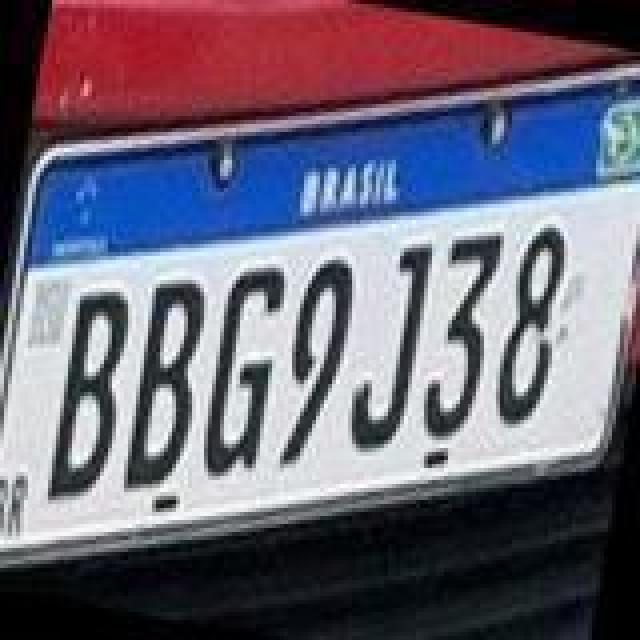3: (412, 220, 508, 452)
8: (486, 216, 578, 440)
9: (268, 246, 364, 474)
B: (40, 278, 144, 514), (116, 266, 220, 502)
G: (190, 256, 290, 488)
J: (340, 228, 436, 460)
